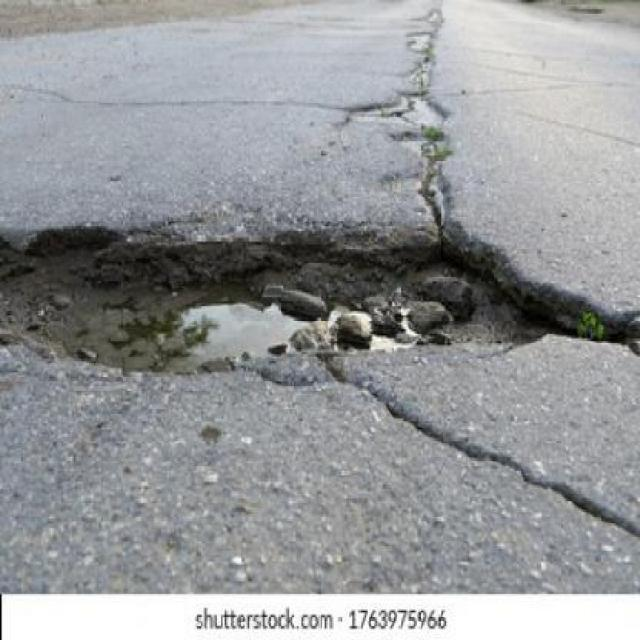Pothole: (0, 206, 569, 377)
